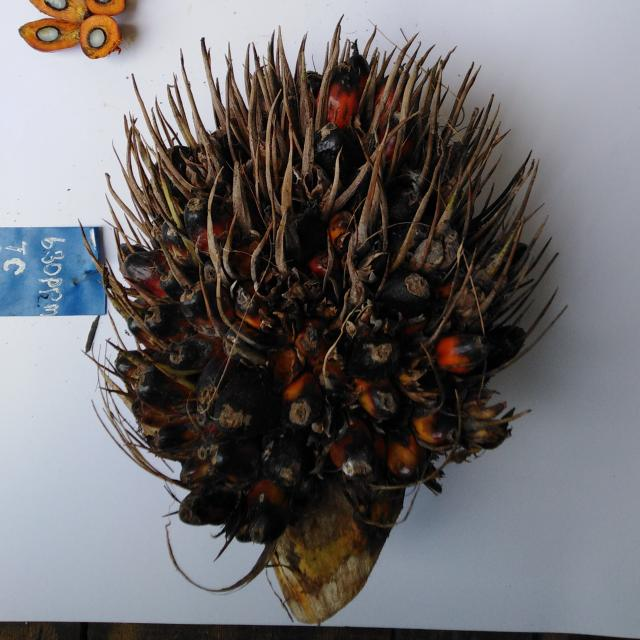FFB: (143, 80, 507, 534)
